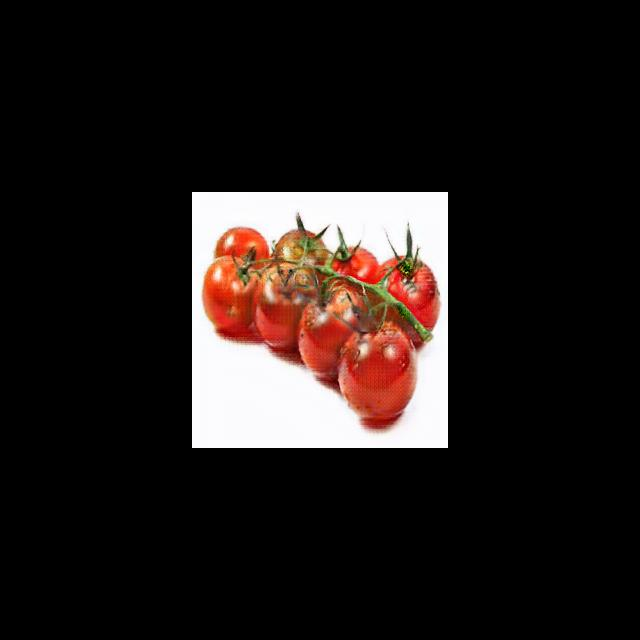tomato: (338, 319, 418, 421), (298, 285, 358, 371), (254, 263, 315, 347), (377, 257, 438, 336), (203, 258, 260, 334)
